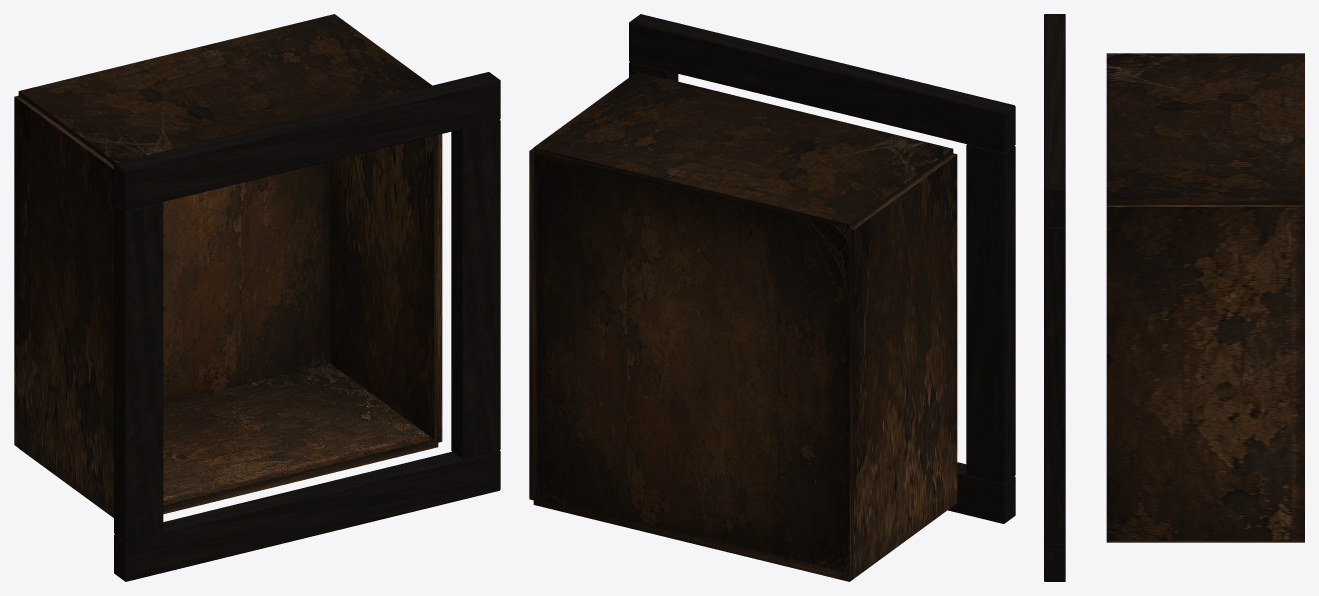
The model's file is wall_hollow.glb.
The picture shows the model from 3 angles, left to right: view 1: azimuth 30°, elevation 25°; view 2: azimuth 150°, elevation 25°; view 3: azimuth 270°, elevation 25°; orthographic projection. The views are drawn at different scales.
Parts seen in each view (by area): view 1: Hollow_LeftLiner, Hollow_BackPanel, Hollow_TopLiner, Hollow_RightLiner, Hollow_BottomLiner, Hollow_FrontTrimTop, Hollow_FrontTrimBottom, Hollow_FrontTrimLeft, Hollow_FrontTrimRight; view 2: Hollow_BackPanel, Hollow_LeftLiner, Hollow_TopLiner, Hollow_FrontTrimTop, Hollow_FrontTrimLeft, Hollow_BottomLiner, Hollow_RightLiner, Hollow_FrontTrimBottom; view 3: Hollow_RightLiner, Hollow_TopLiner, Hollow_FrontTrimRight, Hollow_FrontTrimTop, Hollow_FrontTrimBottom, Hollow_BottomLiner.
Boxes of the visible parts, x1,y1,x2,y2 form: Hollow_LeftLiner: (14, 95, 114, 517); Hollow_BackPanel: (162, 161, 330, 404); Hollow_TopLiner: (18, 14, 431, 164); Hollow_RightLiner: (330, 134, 442, 443); Hollow_BottomLiner: (19, 363, 438, 517); Hollow_FrontTrimTop: (114, 72, 500, 210); Hollow_FrontTrimBottom: (114, 450, 500, 581); Hollow_FrontTrimLeft: (114, 202, 163, 541); Hollow_FrontTrimRight: (451, 120, 500, 459); Hollow_BackPanel: (533, 152, 849, 575); Hollow_LeftLiner: (846, 153, 957, 578); Hollow_TopLiner: (533, 71, 953, 230); Hollow_FrontTrimTop: (629, 14, 1015, 153); Hollow_FrontTrimLeft: (966, 144, 1015, 483); Hollow_BottomLiner: (533, 496, 952, 581); Hollow_RightLiner: (529, 148, 537, 500); Hollow_FrontTrimBottom: (948, 462, 1015, 523); Hollow_RightLiner: (1106, 205, 1304, 540); Hollow_TopLiner: (1106, 53, 1304, 204); Hollow_FrontTrimRight: (1044, 226, 1065, 543); Hollow_FrontTrimTop: (1044, 14, 1065, 226); Hollow_FrontTrimBottom: (1044, 543, 1065, 581); Hollow_BottomLiner: (1106, 540, 1304, 542).
Bounding box in the file's own units: 0.88 × 0.92 × 0.553.
3 materials, 3 textured.
